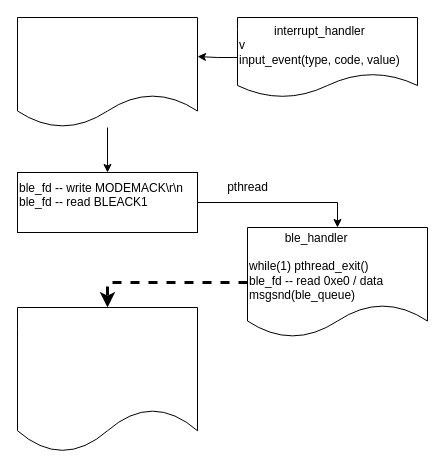
The diagram is 445 pixels wide and 470 high, and some of its shapes have lost their labels. Here are the shapes that lost their labels. From the top down, the box of each, then its label:
(16, 16, 198, 128): event_handler while(1) - FD_ISSET(ble_evt_fd)
(16, 306, 198, 452): ble_event_handler while(1) msgrcv(ble_queue) call_ user_ register_func()
